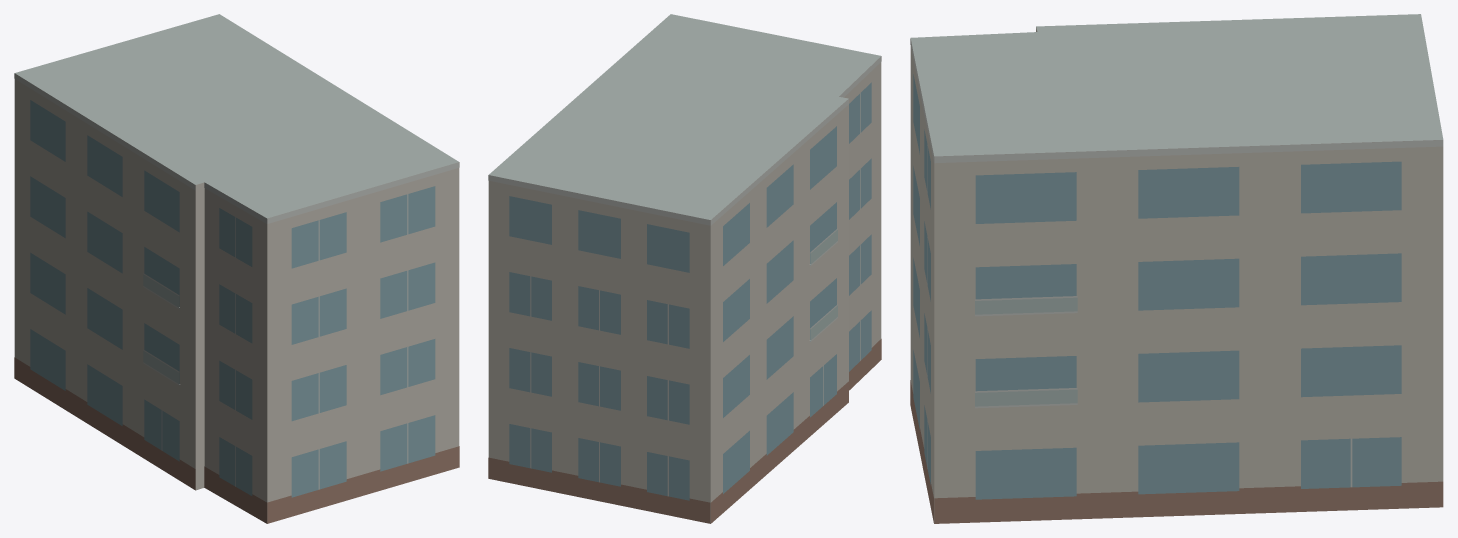
The model's file is survey-upis-32631128.glb.
3 renders of one model, left to right at view 1: azimuth 30°, elevation 25°; view 2: azimuth 150°, elevation 25°; view 3: azimuth 270°, elevation 25°, orthographic. The views are drawn at different scales.
Visible parts, largest first — view 1: survey-upis-32631128.tmp; view 2: survey-upis-32631128.tmp; view 3: survey-upis-32631128.tmp.
Boxes of the visible parts, x1,y1,x2,y2 form: survey-upis-32631128.tmp: (14,14,459,523); survey-upis-32631128.tmp: (488,14,881,523); survey-upis-32631128.tmp: (910,14,1443,523).
Bounding box in the file's own units: 10.98 × 13.2 × 17.36.
